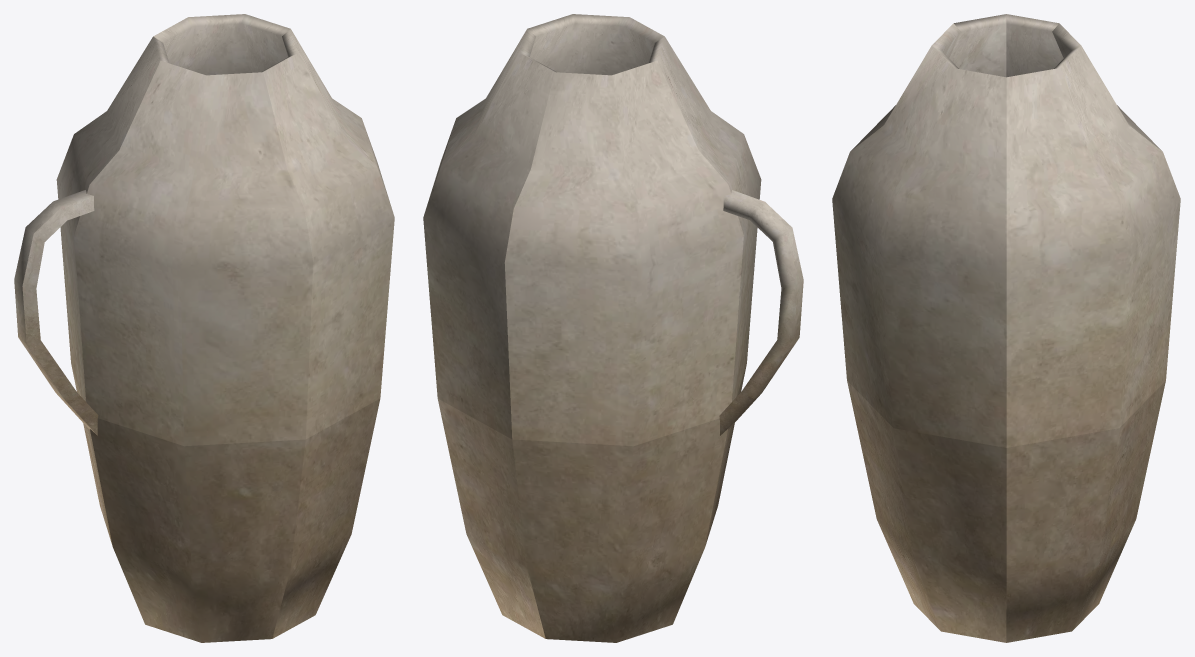
Rendered from Mug_Jar_Shards.glb.
3 renders of one model, left to right at view 1: azimuth 30°, elevation 25°; view 2: azimuth 150°, elevation 25°; view 3: azimuth 270°, elevation 25°, orthographic.
Visible parts, largest first — view 1: Shard_0_1, Shard_0_0, Shard_1_1, Shard_1_0, Shard_3_1, Shard_2_1, Shard_3_0; view 2: Shard_3_1, Shard_3_0, Shard_2_1, Shard_2_0, Shard_0_1, Shard_1_1, Shard_0_0; view 3: Shard_1_1, Shard_2_1, Shard_1_0, Shard_2_0, Shard_3_1, Shard_0_1.
Part boxes in pixels (x1,y1,x2,y2): Shard_0_1: [22, 61, 313, 446]; Shard_0_0: [64, 392, 305, 642]; Shard_1_1: [261, 29, 394, 438]; Shard_1_0: [272, 399, 380, 638]; Shard_3_1: [14, 36, 169, 401]; Shard_2_1: [153, 14, 290, 75]; Shard_3_0: [56, 365, 112, 545]; Shard_3_1: [504, 60, 803, 446]; Shard_3_0: [512, 392, 760, 642]; Shard_2_1: [423, 29, 556, 438]; Shard_2_0: [438, 399, 545, 638]; Shard_0_1: [648, 36, 761, 401]; Shard_1_1: [527, 14, 664, 75]; Shard_0_0: [705, 365, 746, 545]; Shard_1_1: [832, 23, 1006, 447]; Shard_2_1: [1006, 23, 1180, 447]; Shard_1_0: [847, 381, 1006, 642]; Shard_2_0: [1006, 381, 1165, 642]; Shard_3_1: [1006, 14, 1161, 150]; Shard_0_1: [851, 14, 1006, 150].
Size of the model in its own units: 0.6365 by 0.95 by 0.5376.
1 material, 1 textured.
